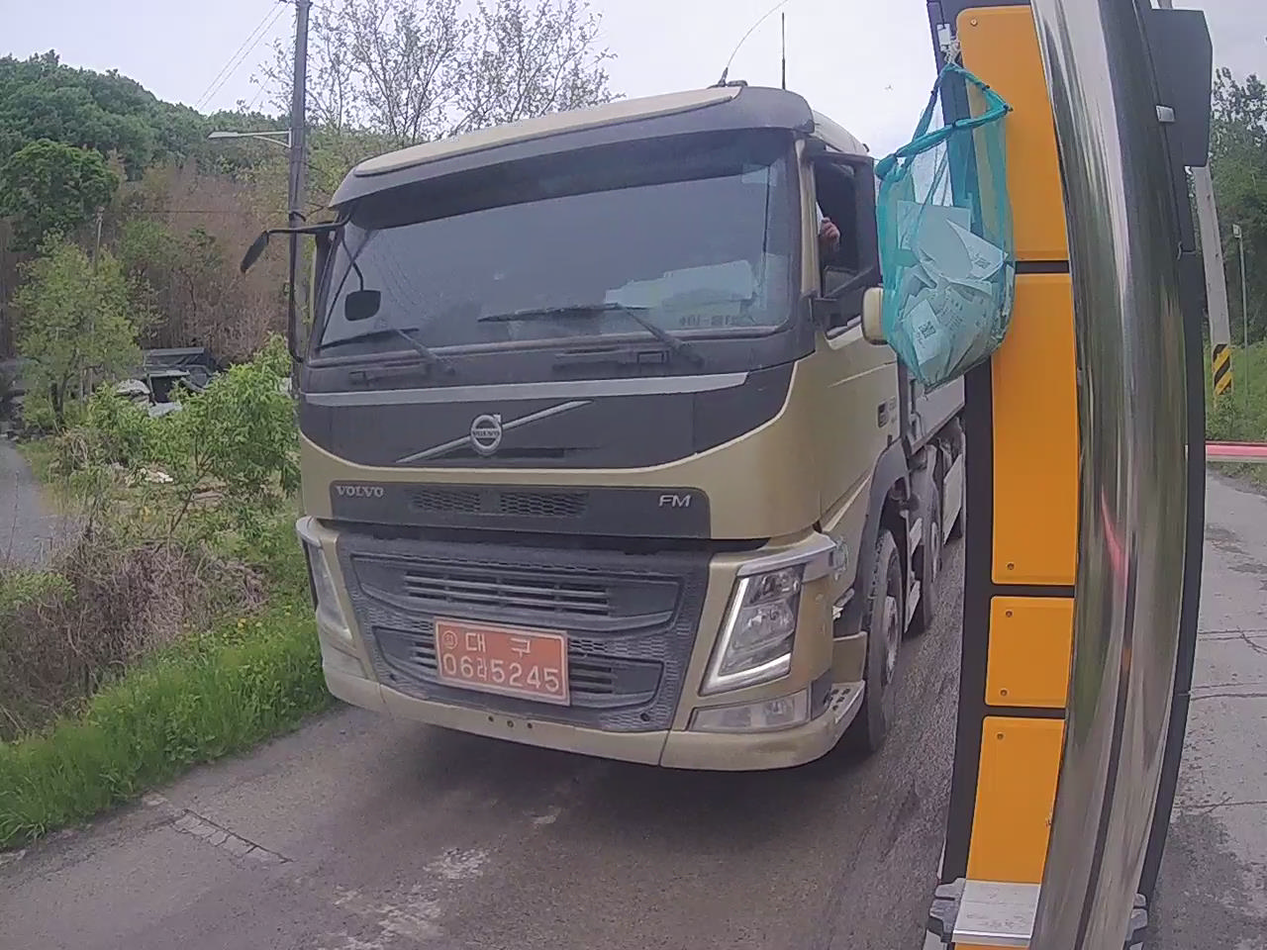license_plate: (436, 620, 567, 703)
truck: (243, 83, 963, 768)
